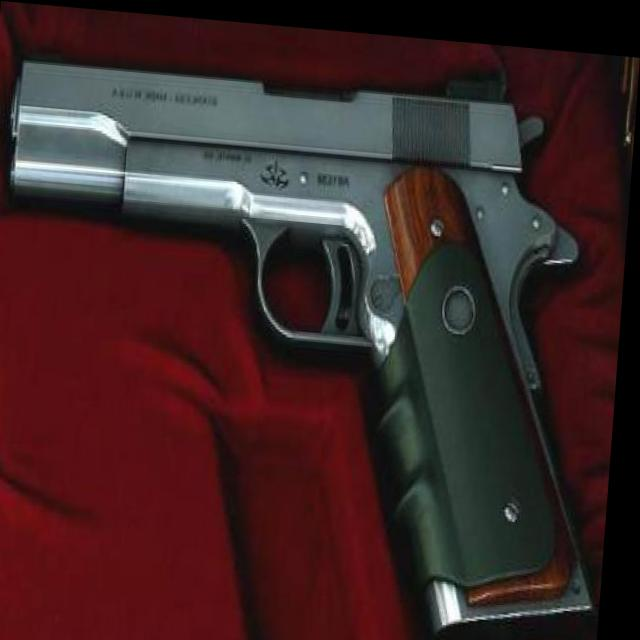handgun: (0, 31, 636, 640)
